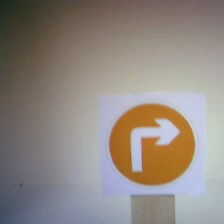right: (98, 93, 207, 197)
